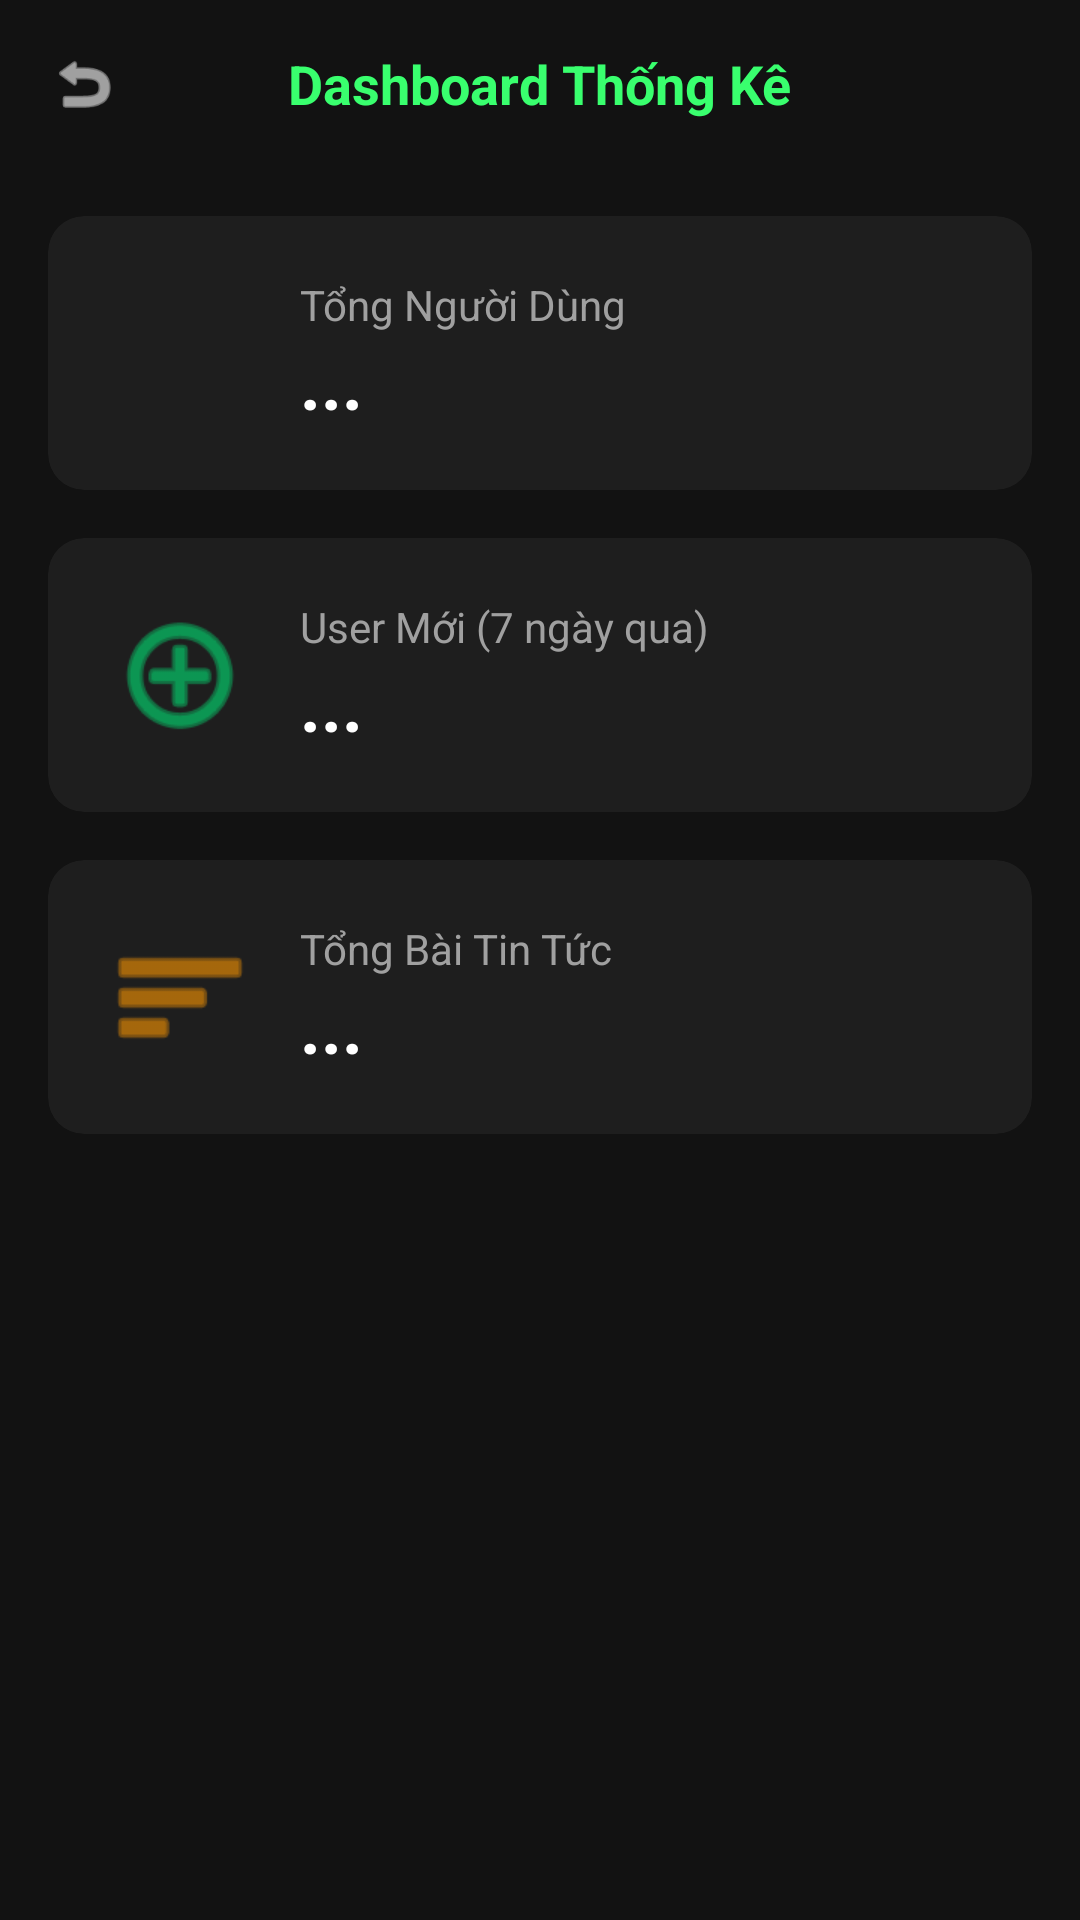

Named icons in this screenshot (1080 × 1920) and their bounding boxes, bbox=[x1, y1, x2, y2]:
add: bbox=[127, 622, 233, 729]
revert: bbox=[59, 61, 111, 108]
sort by size: bbox=[118, 957, 242, 1038]
